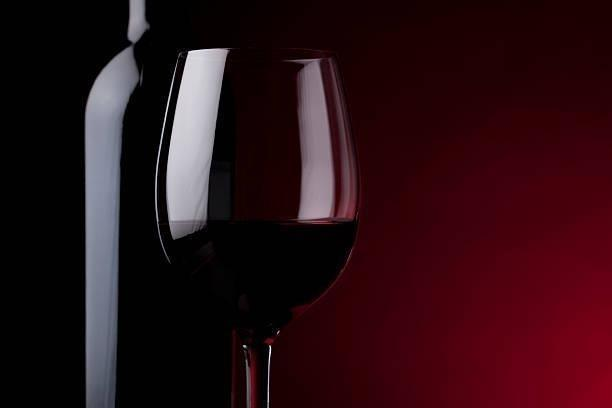glass-wine: (155, 45, 363, 407)
